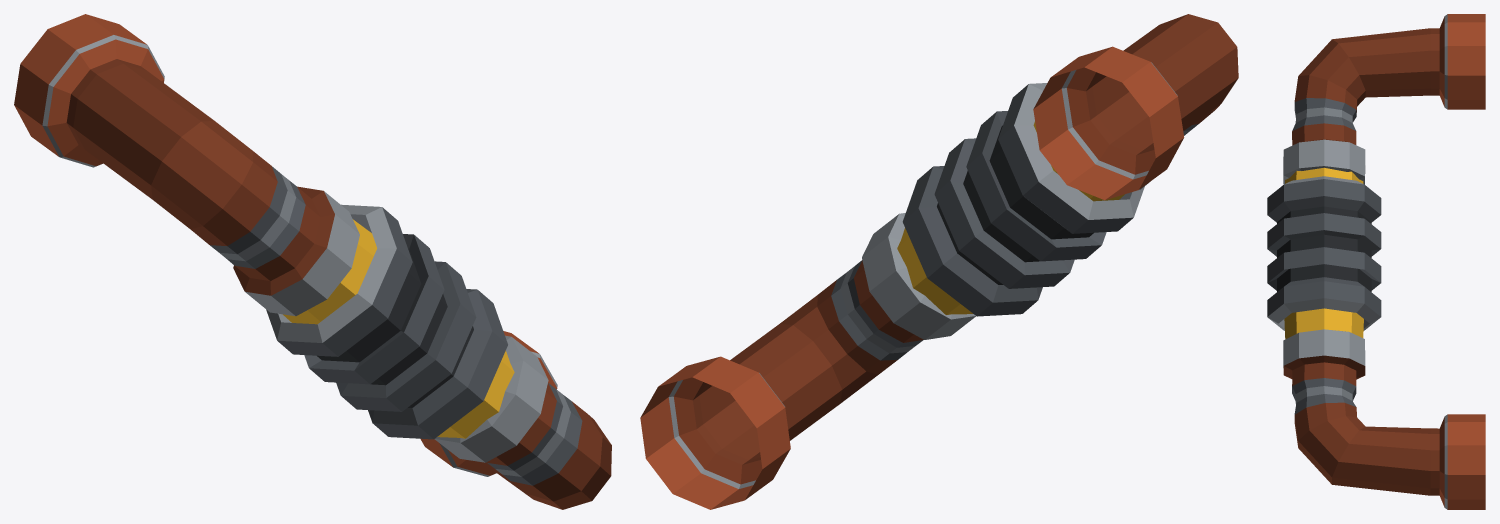
Rendered from EA_SP_GrabHandle_01a.glb.
3 renders of one model, left to right at view 1: azimuth 30°, elevation 25°; view 2: azimuth 150°, elevation 25°; view 3: azimuth 270°, elevation 25°, orthographic. The views are drawn at different scales.
Visible parts, largest first — view 1: EA_SP_GrabHandle_01a; view 2: EA_SP_GrabHandle_01a; view 3: EA_SP_GrabHandle_01a.
Part boxes in pixels (x1=…): EA_SP_GrabHandle_01a: x1=14, y1=14, x2=611, y2=509; EA_SP_GrabHandle_01a: x1=640, y1=14, x2=1238, y2=509; EA_SP_GrabHandle_01a: x1=1267, y1=14, x2=1485, y2=509.
Size of the model in its own units: 1.1 by 1.09 by 0.6029.
Materials: 1 (1 with a texture image).
